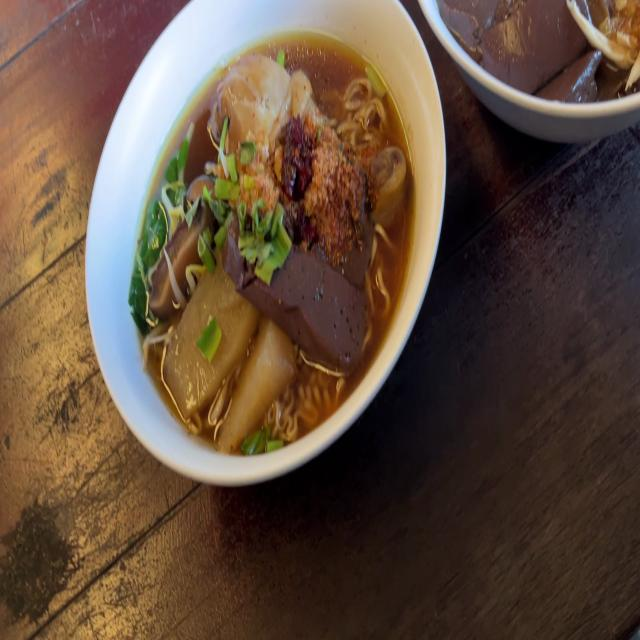noodle: (435, 0, 602, 102), (243, 242, 374, 351)
